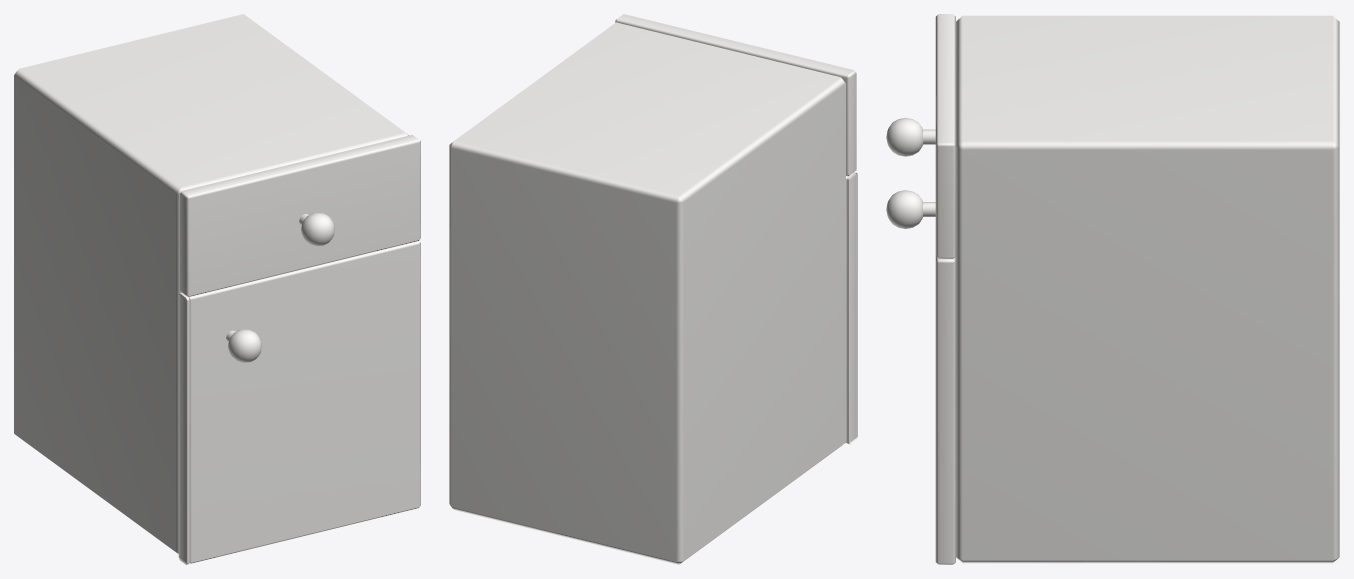
Rendered from Cabinet_7.glb.
3 renders of one model, left to right at view 1: azimuth 30°, elevation 25°; view 2: azimuth 150°, elevation 25°; view 3: azimuth 270°, elevation 25°, orthographic. The views are drawn at different scales.
Visible parts, largest first — view 1: Cabinet_7; view 2: Cabinet_7; view 3: Cabinet_7.
Part boxes in pixels (x1=…): Cabinet_7: x1=14, y1=14, x2=420, y2=564; Cabinet_7: x1=449, y1=14, x2=857, y2=564; Cabinet_7: x1=886, y1=14, x2=1339, y2=564.
Size of the model in its own units: 0.6245 by 0.9376 by 0.9121.
Materials: 1 (1 with a texture image).
